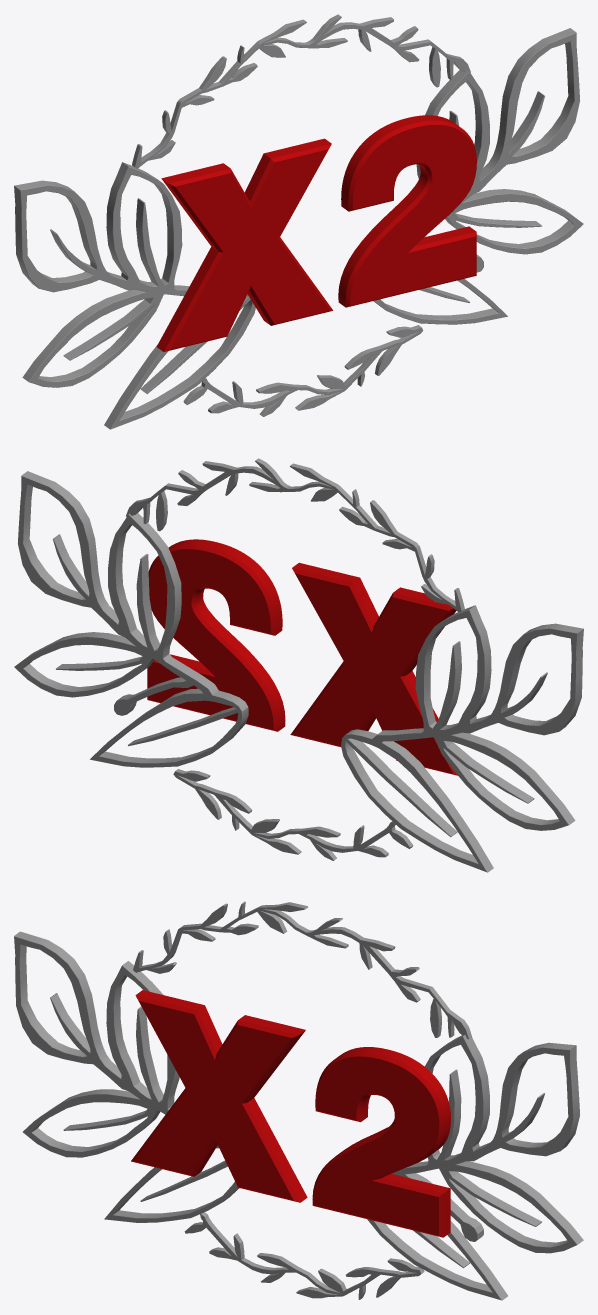
File: PUP-X2.glb
3 views of the same model, one above another, from view 1: azimuth 30°, elevation 25°; view 2: azimuth 150°, elevation 25°; view 3: azimuth 330°, elevation 25° (orthographic).
Parts seen in each view (by area): view 1: Mesh2_$AssimpFbx$_ScalingPivotInverse, pPlane11, pPlane12, pPlane15; view 2: Mesh2_$AssimpFbx$_ScalingPivotInverse, pPlane11, pPlane12, pPlane15; view 3: Mesh2_$AssimpFbx$_ScalingPivotInverse, pPlane12, pPlane11, pPlane15.
Boxes of the visible parts, x1,y1,x2,y2 form: Mesh2_$AssimpFbx$_ScalingPivotInverse: (156,115,476,351); pPlane11: (14,162,255,429); pPlane12: (373,28,583,324); pPlane15: (132,14,470,416); Mesh2_$AssimpFbx$_ScalingPivotInverse: (147,539,457,775); pPlane11: (341,605,583,872); pPlane12: (14,471,248,767); pPlane15: (126,458,464,860); Mesh2_$AssimpFbx$_ScalingPivotInverse: (131,990,450,1237); pPlane12: (367,1035,583,1300); pPlane11: (14,931,239,1222); pPlane15: (133,901,471,1299).
Bounding box in the file's own units: 149 × 97.85 × 9.92.
